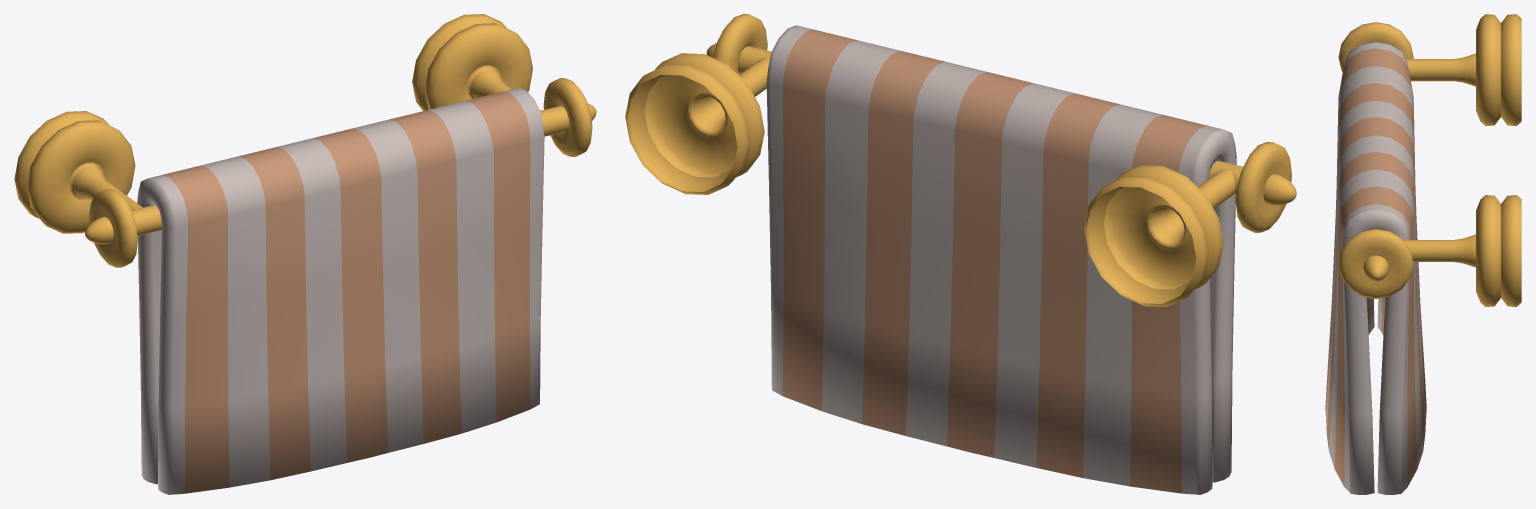
The model's file is OT_076_towel.glb.
3 views of the same model, side by side, from view 1: azimuth 30°, elevation 25°; view 2: azimuth 150°, elevation 25°; view 3: azimuth 270°, elevation 25° (orthographic). The views are drawn at different scales.
Visible parts, largest first — view 1: towel, holder; view 2: towel, holder; view 3: towel, holder.
Part boxes in pixels (box(x1,y1,x2,y2)): towel: box(137, 88, 544, 494); holder: box(14, 14, 596, 267); towel: box(766, 25, 1236, 494); holder: box(625, 14, 1296, 306); towel: box(1325, 41, 1426, 494); holder: box(1338, 14, 1521, 306).
Bounding box in the file's own units: 1.29 × 0.7838 × 0.4617.
